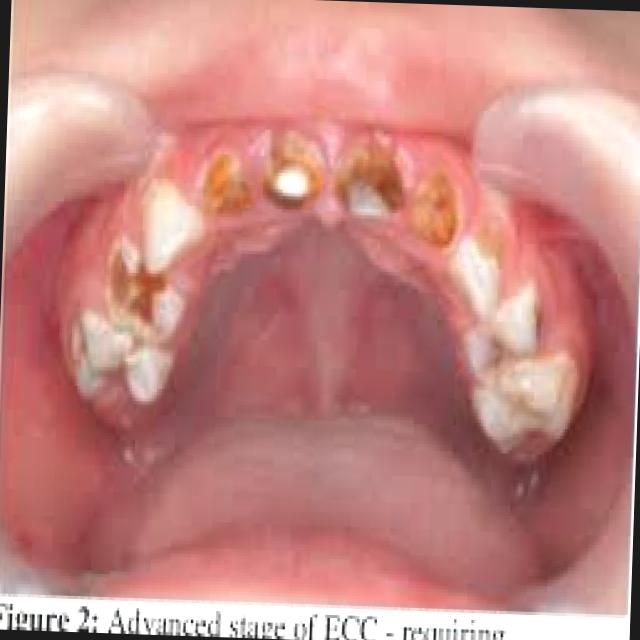caries: (97, 218, 174, 340), (330, 126, 404, 235), (190, 131, 255, 229), (260, 123, 328, 216), (410, 158, 470, 258)
